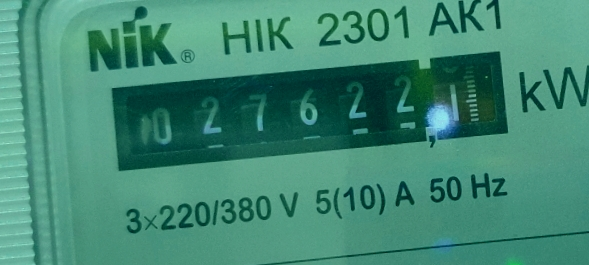0: (147, 102, 175, 146)
1: (444, 79, 463, 123)
2: (341, 77, 369, 120), (197, 92, 223, 136), (390, 71, 416, 114)
6: (294, 84, 320, 127)
7: (245, 90, 272, 135)
screen: (97, 39, 522, 178)
